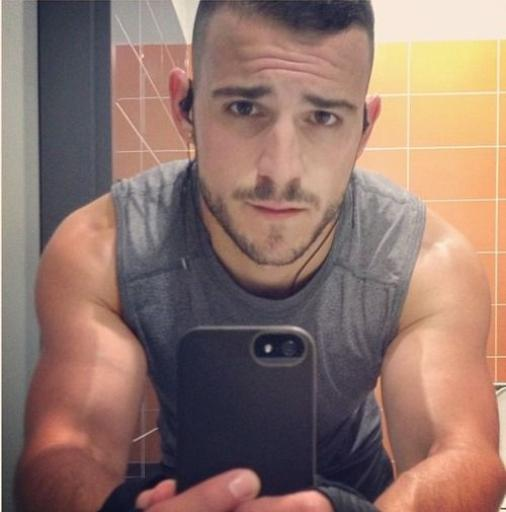left_eye: (304, 110, 347, 132)
left_lip_corner: (298, 203, 314, 222)
right_eye: (221, 100, 271, 126)
right_lip_corner: (240, 196, 258, 215)
